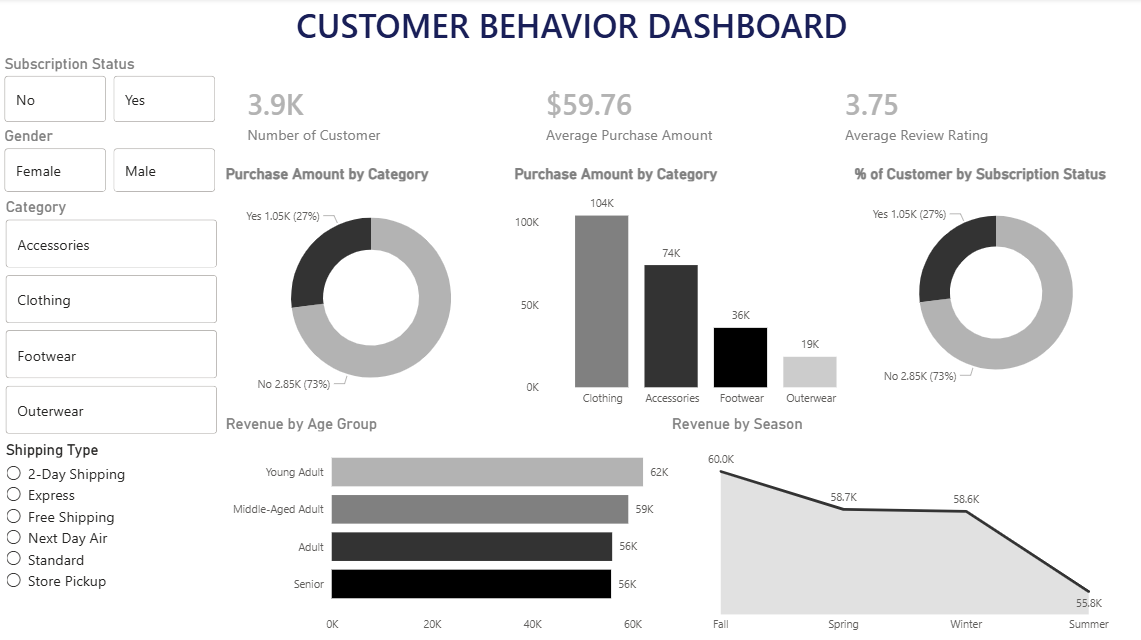

What the dashboard file says about the page in this screenshot:
{"tool":"powerbi","page":{"name":"Page 1","canvas":[1280,720],"ordinal":0},"visuals":[{"type":"cardVisual","fields":{"Data":["customer_shopping_behavior_modified.Number_of_customer","customer_shopping_behavior_modified.Average_Purchase_Amount","customer_shopping_behavior_modified.Average_Review Rating"]},"box":[247.9,36.4,1032.4,186.3],"z":0},{"type":"donutChart","title":"% of Customer by Subscription Status","fields":{"Category":["customer_shopping_behavior_modified.subscription_status"],"Y":["CountNonNull(customer_shopping_behavior_modified.subscription_status)"]},"box":[952.5,186.3,327.8,268.9],"z":1},{"type":"columnChart","title":"Purchase Amount by Category","fields":{"Category":["customer_shopping_behavior_modified.category"],"Y":["Sum(customer_shopping_behavior_modified.purchase_amount)"]},"box":[571.5,186.3,404.8,280.1],"z":2},{"type":"donutChart","title":"Purchase Amount by Category","fields":{"Y":["CountNonNull(customer_shopping_behavior_modified.subscription_status)"],"Category":["customer_shopping_behavior_modified.subscription_status"]},"box":[247.9,186.3,336.2,280.1],"z":3},{"type":"clusteredBarChart","title":"Revenue by Age Group","fields":{"Y":["Sum(customer_shopping_behavior_modified.purchase_amount)"],"Category":["customer_shopping_behavior_modified.age_group"]},"box":[247.9,466.4,516.9,253.5],"z":4},{"type":"areaChart","title":"Revenue by Season","fields":{"Category":["customer_shopping_behavior_modified.season"],"Y":["Sum(customer_shopping_behavior_modified.purchase_amount)"]},"box":[748,466.4,532.3,253.5],"z":5},{"type":"advancedSlicerVisual","title":"Subscription Status","fields":{"Values":["customer_shopping_behavior_modified.subscription_status"]},"box":[0,63,247.9,81.2],"z":6},{"type":"advancedSlicerVisual","title":"Gender","fields":{"Values":["customer_shopping_behavior_modified.gender"]},"box":[0,144.3,247.9,78.4],"z":7},{"type":"advancedSlicerVisual","title":"Category","fields":{"Values":["customer_shopping_behavior_modified.category"]},"box":[1.4,224.1,247.9,271.7],"z":8},{"type":"listSlicer","title":"Shipping Type","fields":{"Values":["customer_shopping_behavior_modified.shipping_type"]},"box":[1.4,495.9,247.9,224.1],"z":9},{"type":"textbox","box":[1.4,0,1278.9,63],"z":10}]}

Visuals, with their boxes in screenshot pixels (x1, y1, x2, y2), scaled from the page's 1280x720 canvas onto the 1141x640 screenshot:
cardVisual - customer_shopping_behavior_modified.Number_of_customer x customer_shopping_behavior_modified.Average_Purchase_Amount: {"x1": 221, "y1": 32, "x2": 1140, "y2": 198}
"% of Customer by Subscription Status" donutChart: {"x1": 849, "y1": 166, "x2": 1140, "y2": 405}
"Purchase Amount by Category" columnChart: {"x1": 509, "y1": 166, "x2": 870, "y2": 415}
"Purchase Amount by Category" donutChart: {"x1": 221, "y1": 166, "x2": 521, "y2": 415}
"Revenue by Age Group" clusteredBarChart: {"x1": 221, "y1": 415, "x2": 682, "y2": 639}
"Revenue by Season" areaChart: {"x1": 667, "y1": 415, "x2": 1140, "y2": 639}
"Subscription Status" advancedSlicerVisual: {"x1": 0, "y1": 56, "x2": 221, "y2": 128}
"Gender" advancedSlicerVisual: {"x1": 0, "y1": 128, "x2": 221, "y2": 198}
"Category" advancedSlicerVisual: {"x1": 1, "y1": 199, "x2": 222, "y2": 441}
"Shipping Type" listSlicer: {"x1": 1, "y1": 441, "x2": 222, "y2": 639}
textbox: {"x1": 1, "y1": 0, "x2": 1140, "y2": 56}
